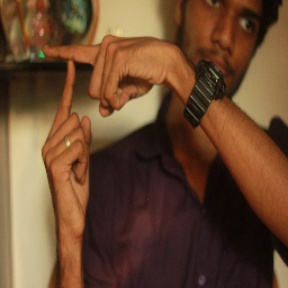T: (29, 35, 113, 150)
